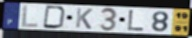3: (99, 6, 119, 32)
8: (151, 11, 170, 32)
D: (42, 5, 68, 30)
K: (75, 7, 95, 30)
L: (21, 5, 41, 29), (126, 10, 146, 32)
